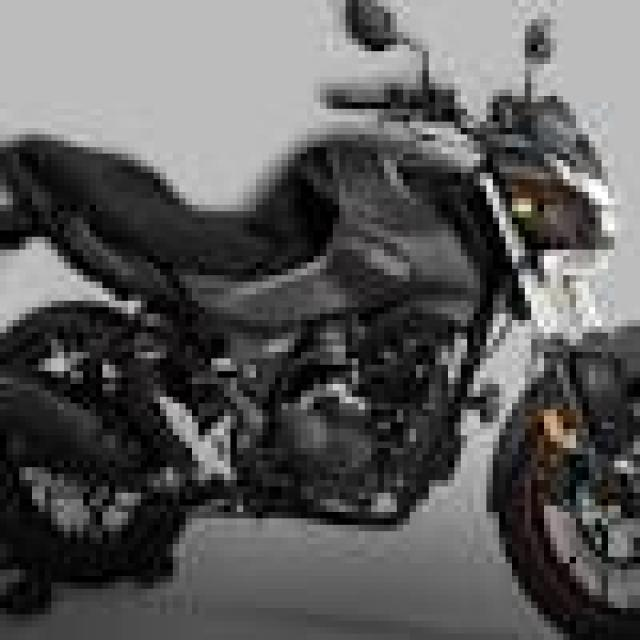two_wheeler: (0, 0, 634, 621)
